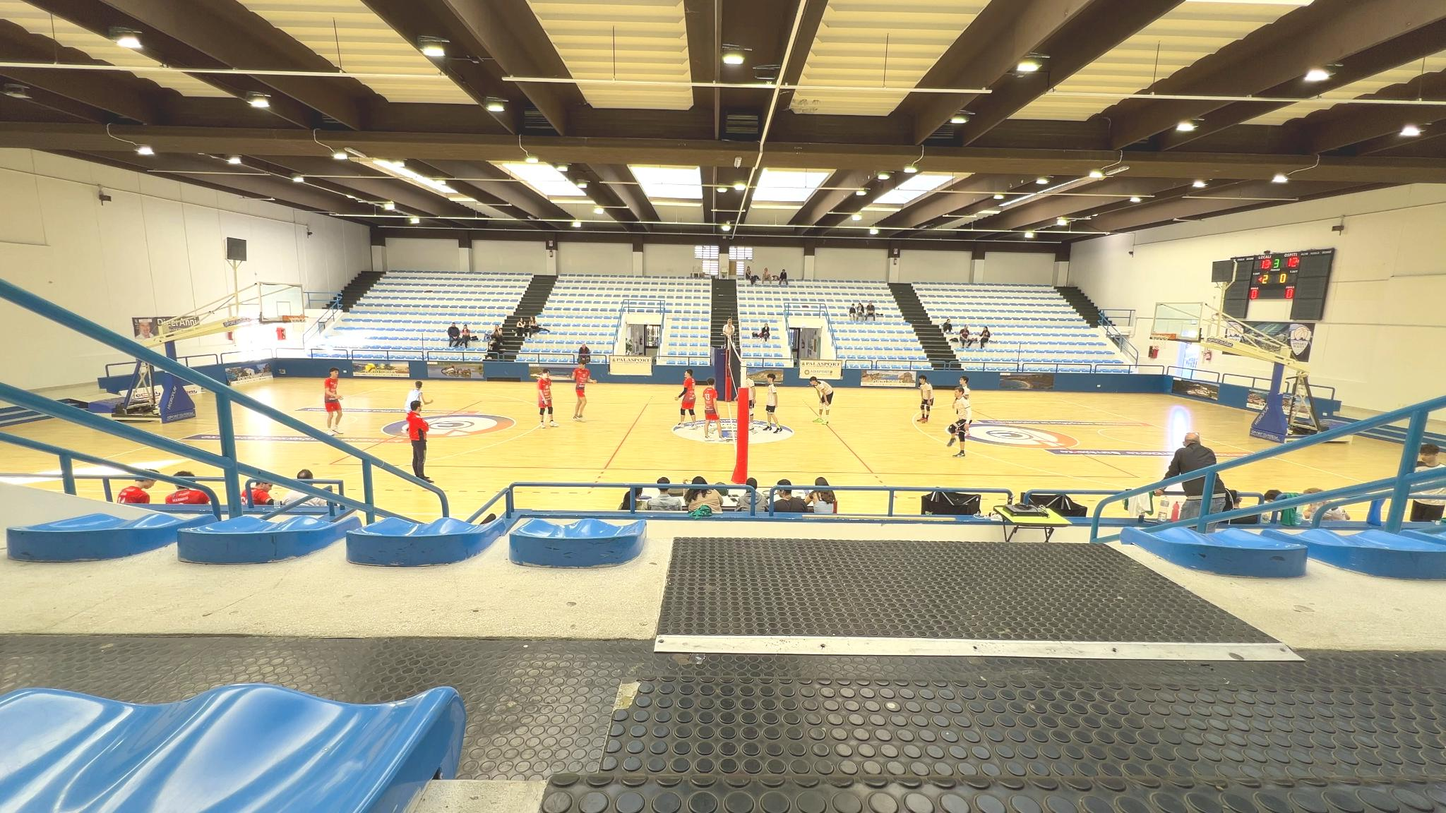volleyball court: (331, 398, 1140, 479)
